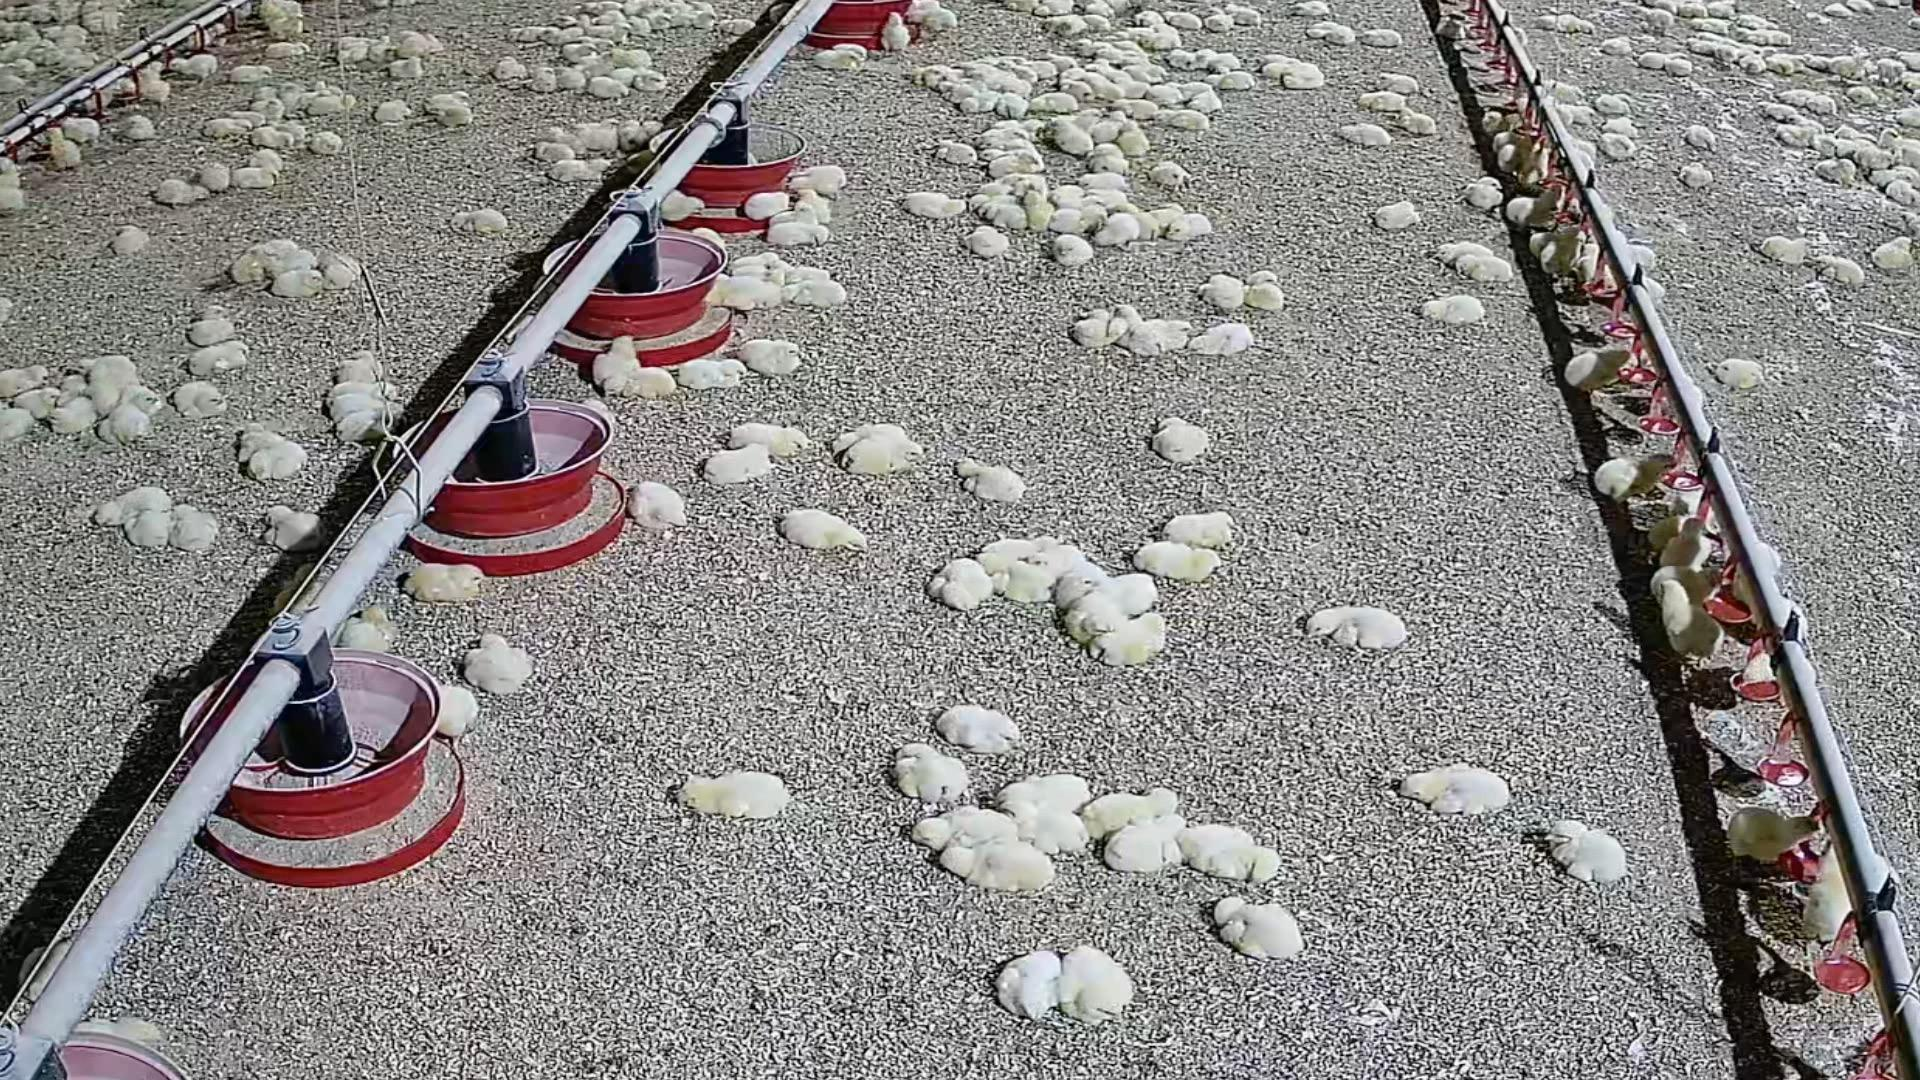poussin: (1062, 940, 1135, 1027), (939, 841, 1058, 894), (1179, 825, 1280, 885), (1211, 897, 1305, 960), (1805, 840, 1858, 952), (1545, 818, 1625, 886), (1402, 764, 1509, 814), (676, 771, 789, 819), (1660, 579, 1725, 659), (914, 804, 1017, 853), (1730, 806, 1818, 862), (1105, 814, 1185, 873), (1085, 787, 1180, 837), (994, 948, 1060, 1019), (894, 742, 969, 803), (1309, 604, 1406, 650), (1738, 578, 1815, 636), (936, 705, 1021, 754), (1089, 613, 1168, 665), (778, 509, 870, 553), (469, 629, 530, 695), (1594, 455, 1673, 505), (1004, 803, 1083, 852), (1642, 559, 1730, 600), (405, 563, 485, 608), (425, 684, 480, 749), (927, 556, 993, 611), (840, 436, 924, 476), (1129, 543, 1216, 582), (95, 489, 170, 531), (1646, 492, 1704, 545), (261, 502, 327, 549), (957, 458, 1027, 501), (339, 603, 400, 653), (994, 774, 1092, 804), (705, 442, 770, 487), (1660, 514, 1709, 572), (1564, 352, 1635, 392), (1163, 514, 1238, 550), (247, 430, 298, 481), (1001, 554, 1054, 604), (1154, 414, 1207, 464), (1063, 595, 1117, 644), (596, 334, 638, 396), (629, 483, 687, 527), (727, 425, 811, 455), (978, 535, 1059, 567), (1051, 564, 1114, 604), (173, 498, 218, 553), (1535, 231, 1586, 277), (278, 564, 319, 621), (109, 393, 154, 443), (832, 421, 906, 451), (1187, 323, 1254, 356), (186, 340, 253, 372), (1105, 574, 1160, 612), (175, 382, 231, 421), (1812, 253, 1862, 294), (323, 375, 405, 400), (1075, 309, 1130, 345), (741, 339, 800, 373), (783, 166, 844, 199), (1503, 187, 1561, 222), (1130, 320, 1189, 353), (335, 415, 398, 446), (1604, 245, 1659, 280), (1035, 539, 1084, 578), (323, 398, 406, 421), (1244, 272, 1288, 313), (679, 360, 745, 388), (1452, 252, 1514, 281), (1530, 223, 1581, 257), (1196, 277, 1244, 314), (53, 400, 102, 435), (620, 368, 679, 397), (0, 364, 51, 397), (715, 278, 775, 306), (657, 187, 705, 222), (127, 512, 167, 553), (46, 129, 86, 171), (1419, 298, 1485, 323), (1709, 363, 1766, 392), (781, 282, 847, 306), (1116, 204, 1159, 240), (1048, 120, 1092, 156), (455, 204, 505, 235), (902, 194, 965, 218), (262, 243, 316, 270), (0, 160, 26, 216), (617, 105, 651, 149), (794, 189, 836, 223), (764, 223, 831, 244), (276, 266, 320, 298), (178, 319, 255, 338), (330, 349, 382, 376), (1760, 237, 1816, 262), (1048, 207, 1104, 232), (977, 200, 1027, 228), (1519, 136, 1548, 183), (684, 223, 731, 252), (1429, 244, 1493, 265), (1874, 240, 1916, 272), (1151, 109, 1211, 132), (742, 194, 793, 220), (767, 204, 820, 229), (0, 410, 36, 447), (1098, 211, 1138, 244), (1022, 94, 1080, 116), (15, 390, 59, 419), (967, 227, 1009, 257), (905, 9, 961, 32), (1497, 136, 1531, 173), (585, 116, 622, 150), (1375, 203, 1419, 232), (881, 11, 910, 54), (988, 154, 1038, 179), (156, 181, 206, 206), (167, 55, 218, 80), (773, 262, 832, 284), (551, 161, 615, 181), (1575, 236, 1602, 281), (1338, 123, 1394, 145), (1077, 73, 1124, 99), (59, 117, 103, 145), (811, 50, 864, 73), (1832, 53, 1869, 84), (1088, 145, 1126, 175), (960, 90, 998, 120), (1051, 233, 1091, 262), (1025, 190, 1054, 229), (227, 167, 281, 189), (1394, 109, 1439, 135), (1465, 179, 1502, 210), (138, 69, 169, 105), (1164, 214, 1211, 237), (1091, 112, 1124, 145), (251, 125, 295, 149), (1601, 133, 1639, 161), (1150, 161, 1192, 186), (1143, 202, 1183, 228), (1116, 301, 1138, 347), (309, 91, 355, 113), (729, 248, 778, 269), (397, 36, 446, 57), (1680, 127, 1721, 152), (1745, 45, 1782, 73), (1122, 120, 1150, 157), (1739, 30, 1791, 50), (1771, 125, 1813, 149), (943, 79, 985, 103), (1010, 57, 1058, 78), (113, 222, 144, 255), (1629, 278, 1663, 307), (1817, 156, 1853, 183), (1113, 75, 1154, 99), (200, 160, 229, 193), (1076, 173, 1127, 191), (1108, 100, 1159, 119), (249, 145, 284, 173), (913, 65, 955, 87), (1084, 61, 1126, 83), (1222, 3, 1262, 26), (203, 117, 251, 137), (386, 54, 426, 78), (1545, 15, 1600, 32), (1284, 65, 1328, 86), (936, 142, 977, 165), (493, 55, 526, 83), (1000, 61, 1038, 84), (968, 193, 1019, 210), (591, 75, 628, 99), (1601, 117, 1642, 138), (1055, 79, 1093, 102), (1358, 30, 1404, 49), (1360, 94, 1406, 112), (554, 65, 583, 94), (1571, 149, 1601, 177), (1207, 76, 1255, 94), (1378, 70, 1418, 91), (430, 108, 472, 128), (1633, 9, 1669, 32), (1638, 51, 1685, 69), (985, 76, 1033, 94), (224, 66, 272, 83), (123, 115, 157, 138), (607, 51, 654, 69), (1596, 91, 1634, 112), (1146, 84, 1184, 105), (533, 140, 571, 161), (575, 51, 613, 73), (1681, 164, 1710, 191), (1321, 22, 1353, 47), (1774, 51, 1807, 75), (997, 92, 1030, 116), (1189, 91, 1222, 115), (335, 45, 368, 69), (430, 88, 469, 108), (244, 102, 286, 120), (371, 102, 407, 123), (1486, 132, 1531, 149), (258, 44, 311, 58), (555, 131, 585, 156), (1833, 123, 1874, 141), (1197, 51, 1238, 70), (1204, 8, 1240, 29), (1089, 189, 1133, 206), (313, 132, 345, 154), (1891, 179, 1919, 206), (1844, 86, 1880, 105), (1167, 12, 1207, 30), (1692, 18, 1731, 37), (1739, 15, 1782, 32), (1714, 38, 1738, 69), (1569, 138, 1601, 161), (601, 21, 633, 44), (1855, 149, 1894, 167), (1756, 102, 1795, 120), (228, 111, 269, 128), (1870, 169, 1913, 185), (1549, 82, 1584, 102), (1040, 50, 1075, 70), (1262, 63, 1302, 80), (1480, 111, 1511, 132), (1876, 59, 1903, 84), (1058, 109, 1102, 124), (832, 45, 869, 62), (1139, 40, 1187, 53), (368, 34, 392, 61), (530, 70, 558, 92), (1054, 199, 1105, 211), (728, 268, 773, 281), (1787, 116, 1824, 132), (1564, 105, 1596, 124), (978, 137, 1034, 148), (1662, 58, 1695, 75), (1131, 11, 1164, 28), (1176, 83, 1212, 99), (1600, 37, 1630, 55), (973, 128, 1026, 138), (1072, 41, 1113, 54), (640, 70, 669, 88), (982, 149, 1033, 160), (1259, 51, 1299, 65), (1151, 22, 1184, 38), (1894, 107, 1920, 127), (1846, 0, 1876, 17), (563, 45, 593, 62), (1171, 53, 1200, 70), (547, 29, 580, 44), (1684, 38, 1713, 54), (1882, 127, 1902, 149), (1871, 0, 1902, 15), (1291, 4, 1332, 15), (199, 305, 228, 319), (993, 120, 1046, 128), (1826, 4, 1853, 20), (1713, 0, 1734, 18), (1679, 3, 1705, 17), (1801, 54, 1829, 67), (1051, 185, 1085, 195), (1904, 13, 1920, 36)
